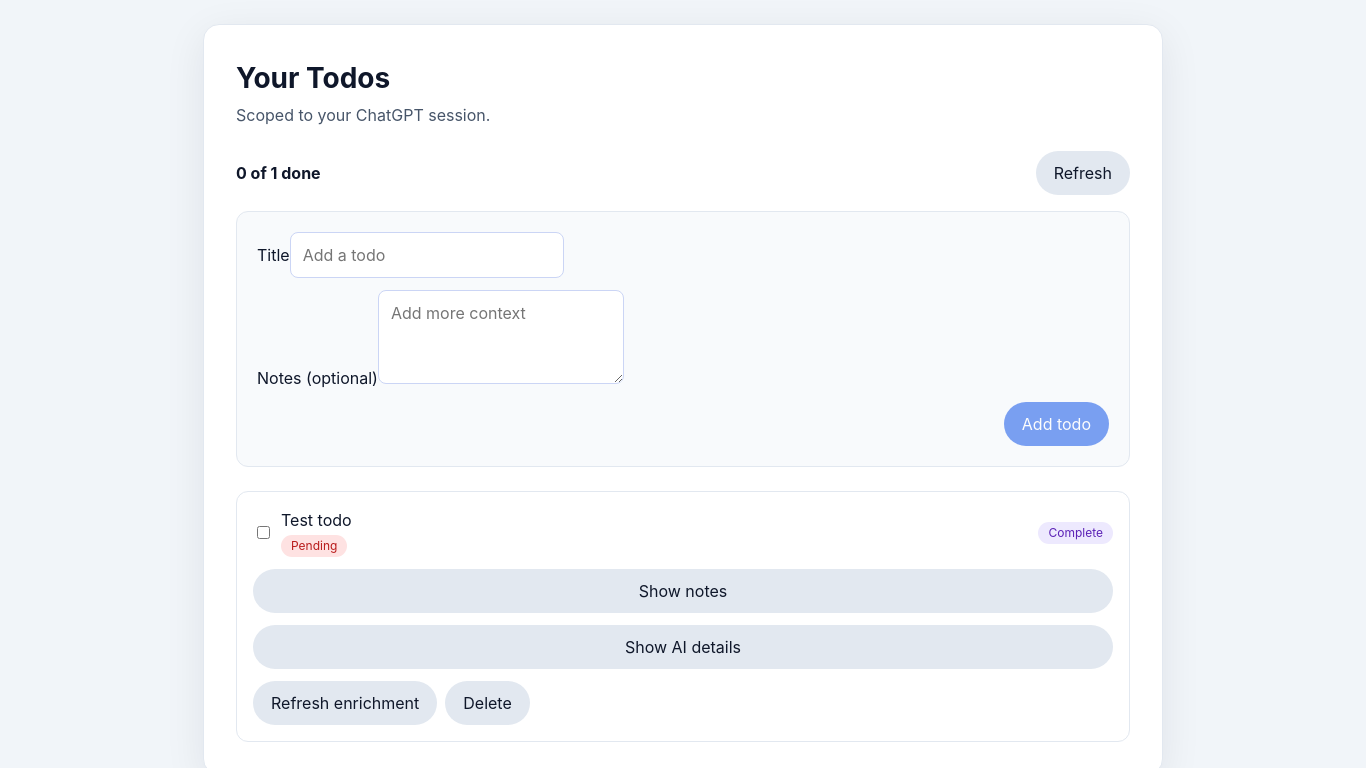
Test: TodoApp › handles toggle errors with banner and inline message
Click the checkbox. click: (264, 532)
box: [257, 526, 270, 539]
(page scrolled)
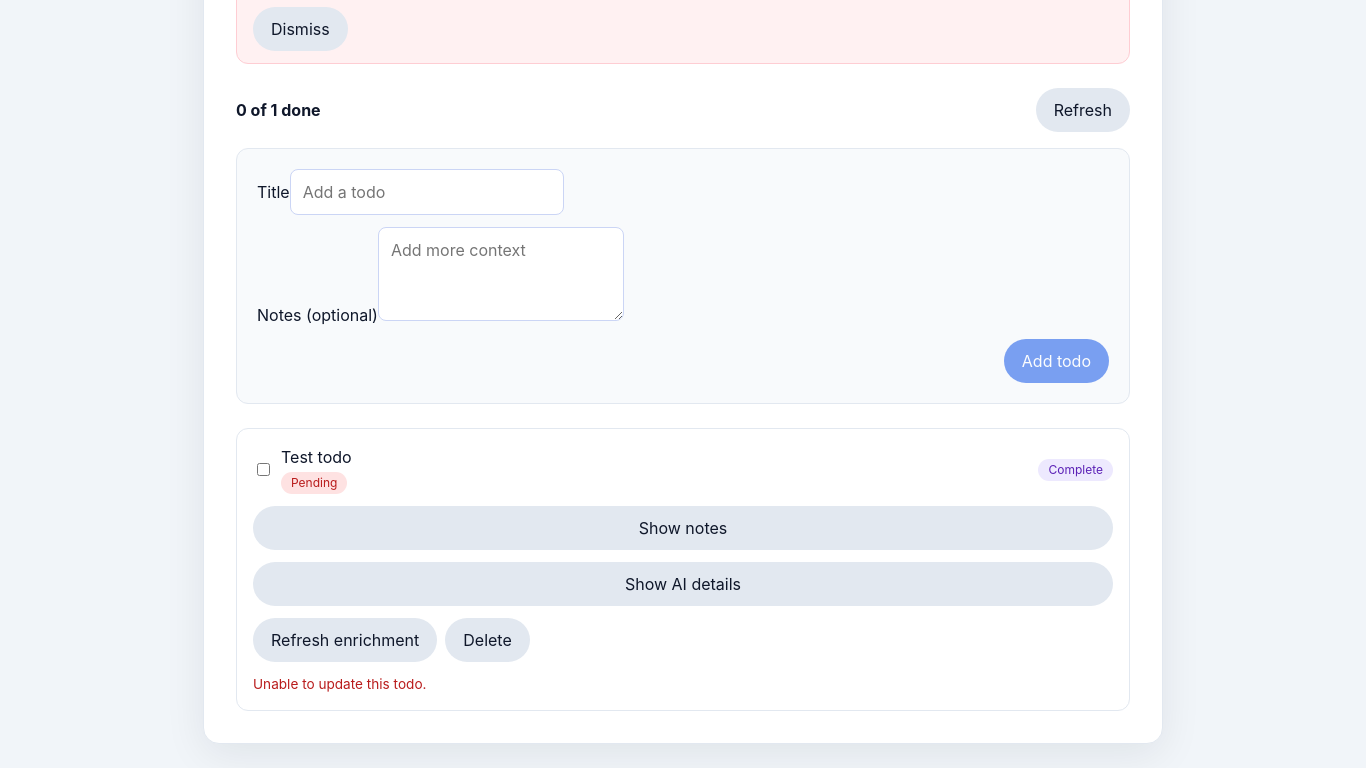
Result: the text "Unable to update this todo." is shown at [253, 676, 426, 692]
